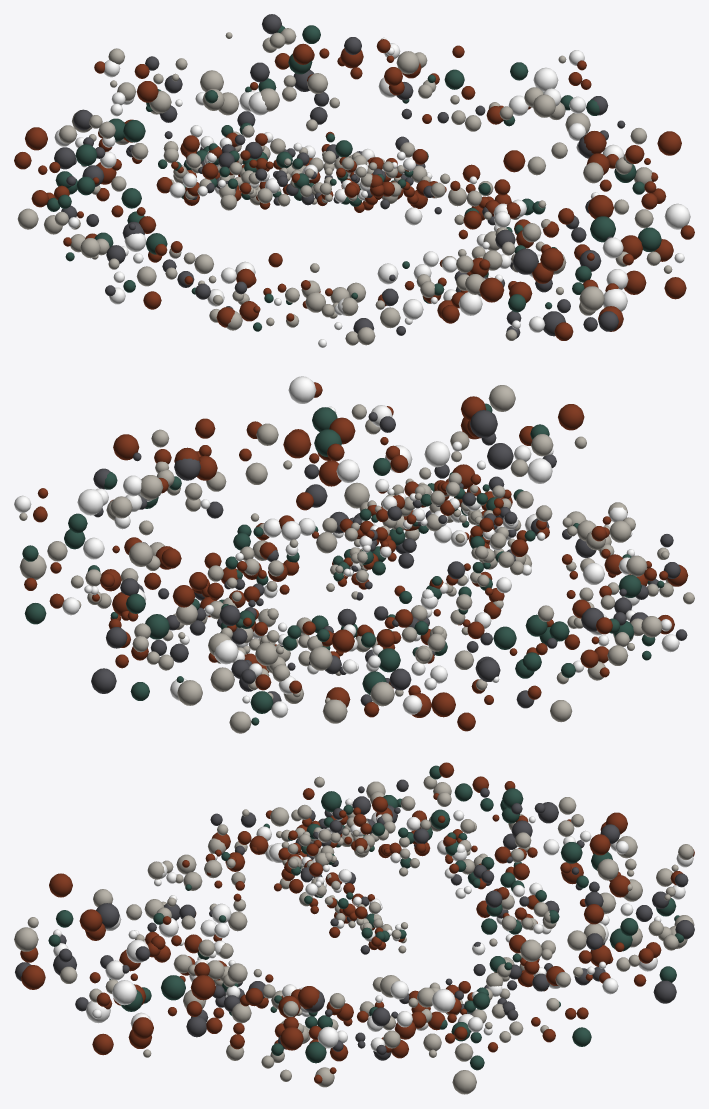
Rendered from swarm.obj.
The picture shows the model from 3 angles, top to bottom: view 1: azimuth 30°, elevation 25°; view 2: azimuth 150°, elevation 25°; view 3: azimuth 270°, elevation 25°; orthographic projection. The views are drawn at different scales.
Size of the model in its own units: 581 by 142 by 635.
